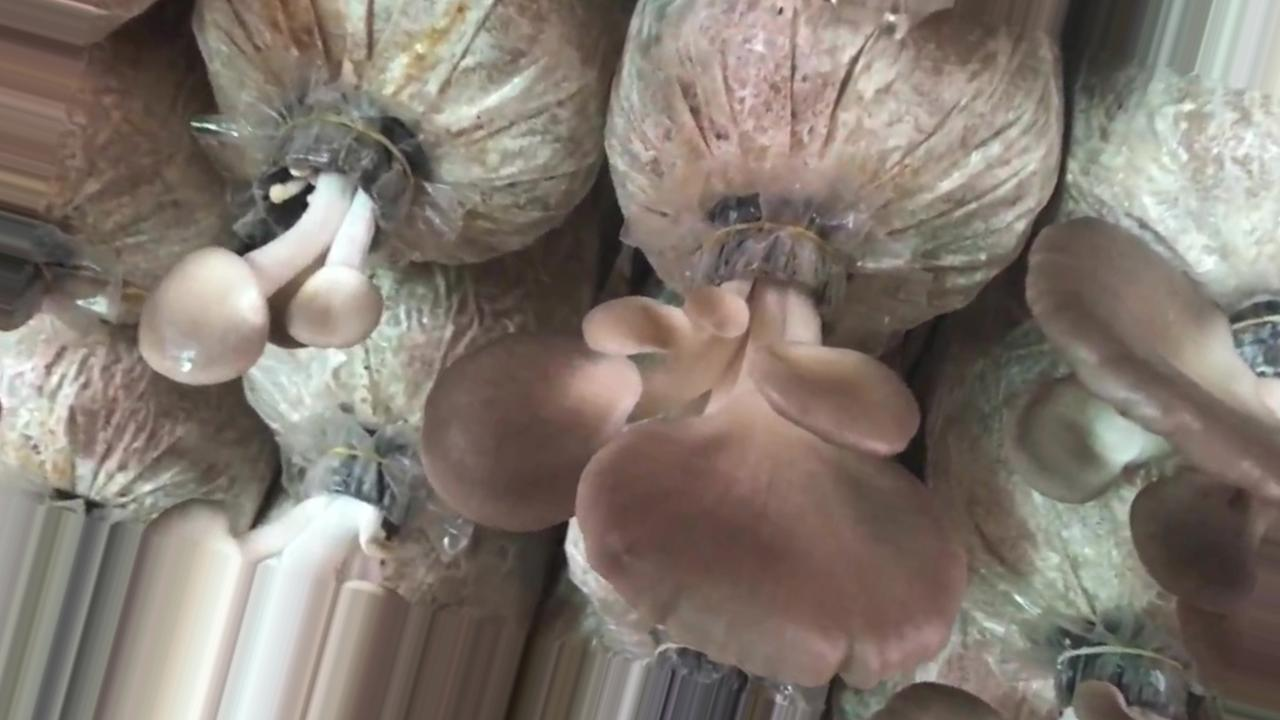nam: (424, 235, 967, 685), (1010, 220, 1280, 705), (141, 109, 420, 384)
